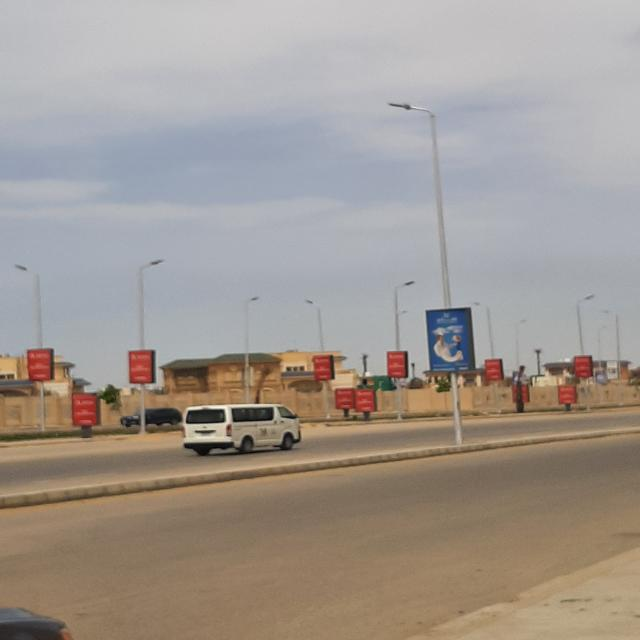Street Light: (387, 100, 464, 442), (13, 264, 46, 430), (137, 258, 163, 432), (471, 302, 501, 413), (305, 299, 332, 418), (394, 281, 415, 421), (576, 294, 596, 411), (243, 295, 259, 412)
